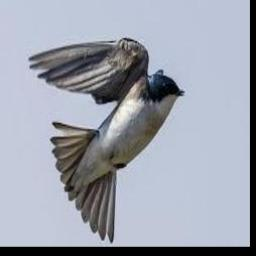Swallow: (28, 38, 184, 242)
